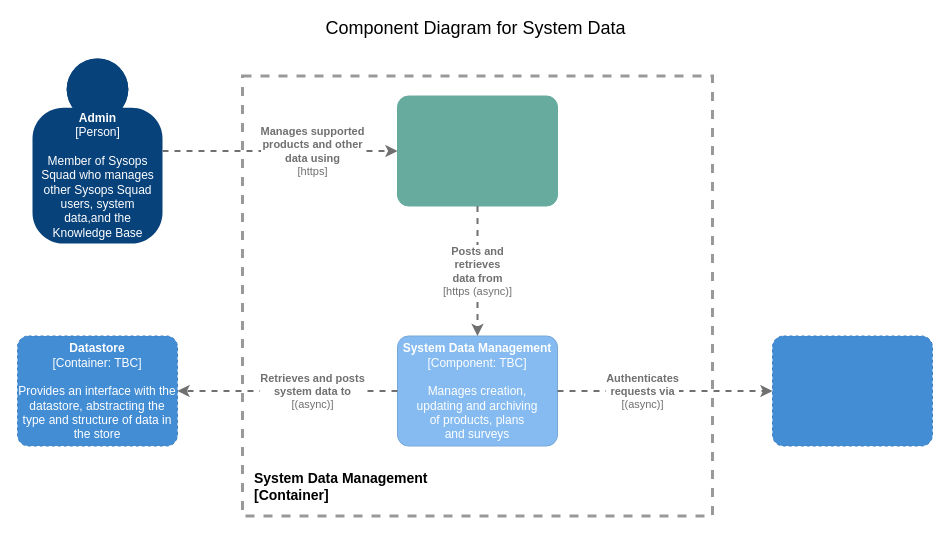
The diagram is 950 pixels wide and 534 high, and some of its shapes have lost their labels. The centre of each missing label's shape, as x and y in pixels:
Authentication [Container: TBC] Manages authentication within the system: point (852, 390)
System Data UI [Component: TBC] User interface for managing system data: point (477, 150)
